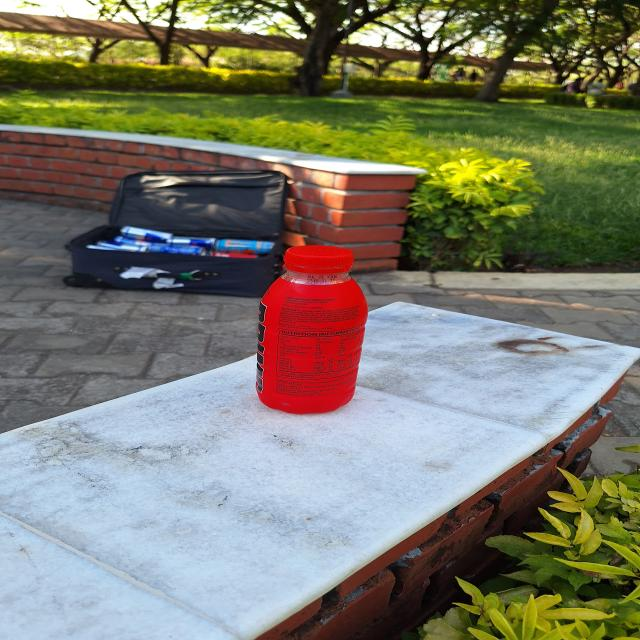Prime - Shitass: (254, 244, 362, 413)
